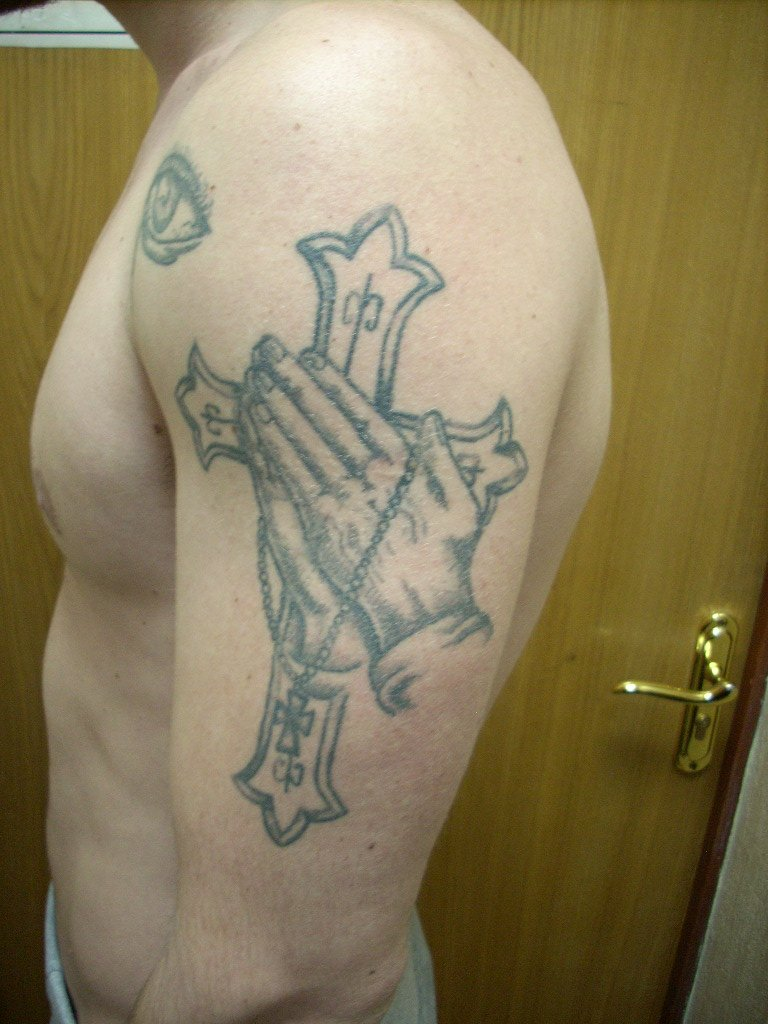tatu9_krest: (163, 195, 550, 856)
